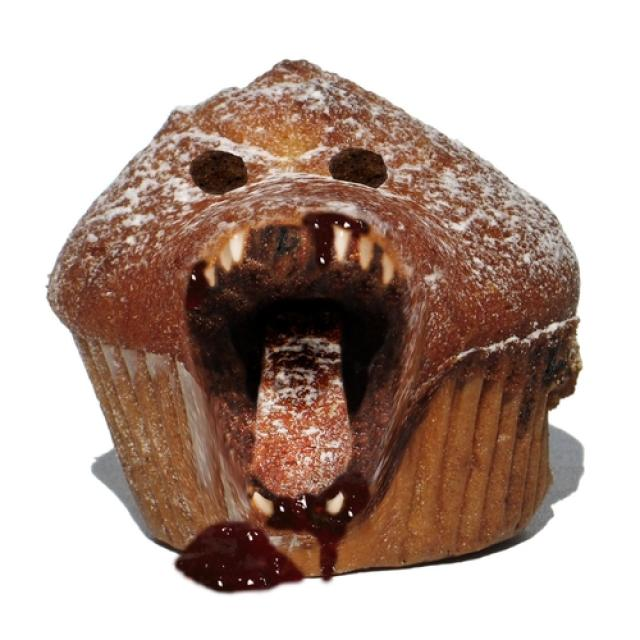炸货点心: (43, 26, 617, 584)
面包点心: (43, 26, 617, 584)
